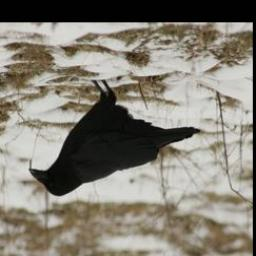Crow: (23, 77, 199, 204)
